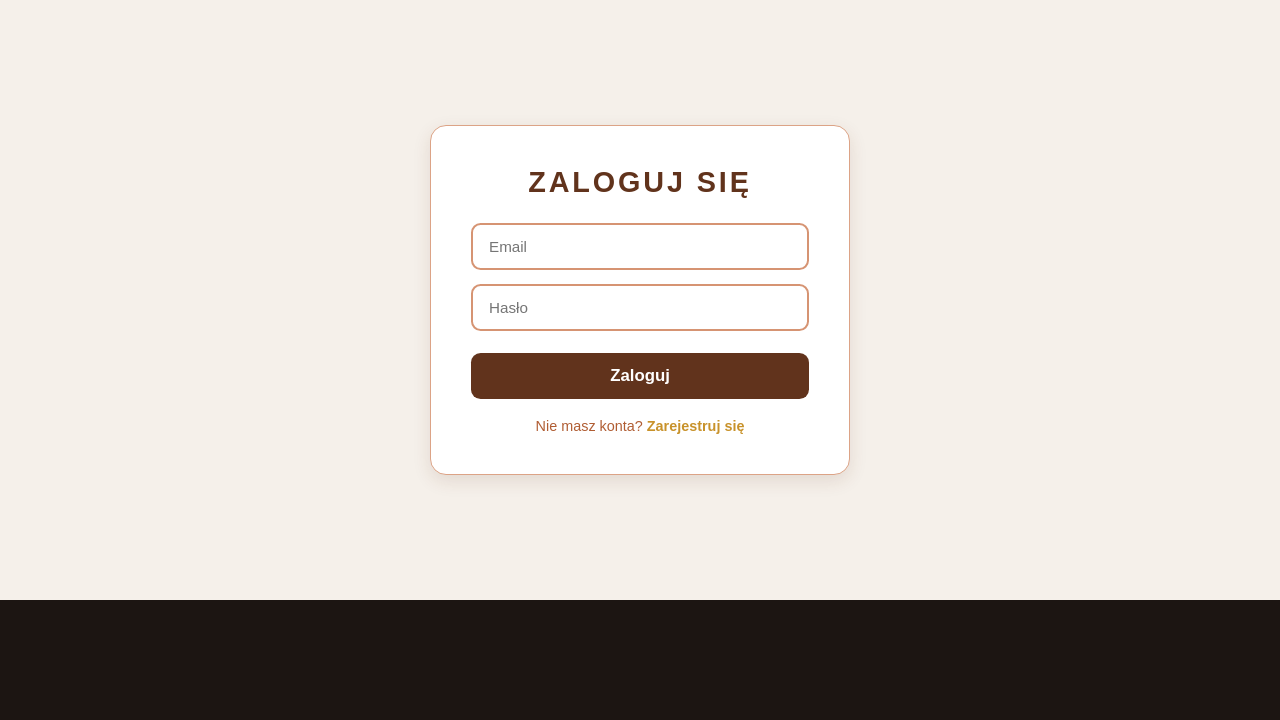
it: Login Component Tests › should show error when login fails
Step 1. Type "test@test.pl" into the field with placeholder "Email" → (640, 246), box [471,223,809,270]
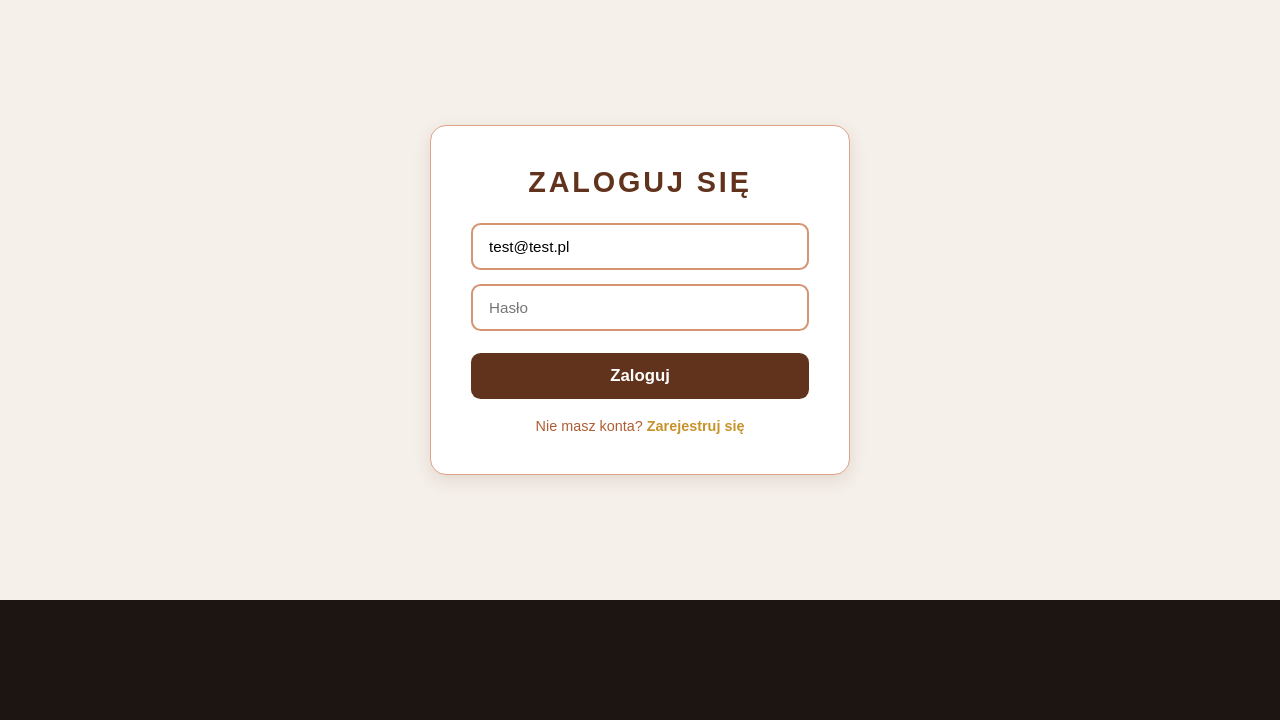
Step 2. Type "wrong" into the password field with placeholder "Hasło" → (640, 307), box [471,284,809,331]
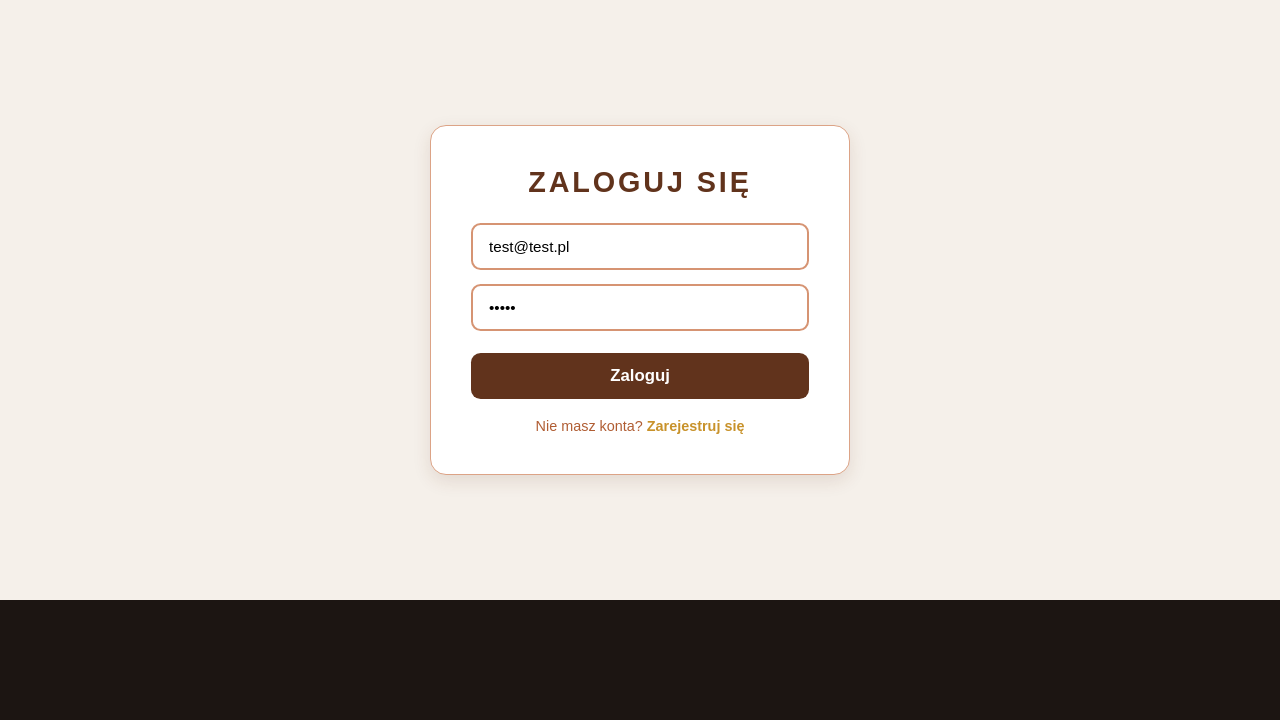
Step 3. Click the button "Zaloguj" → (640, 376), box [471,353,809,399]
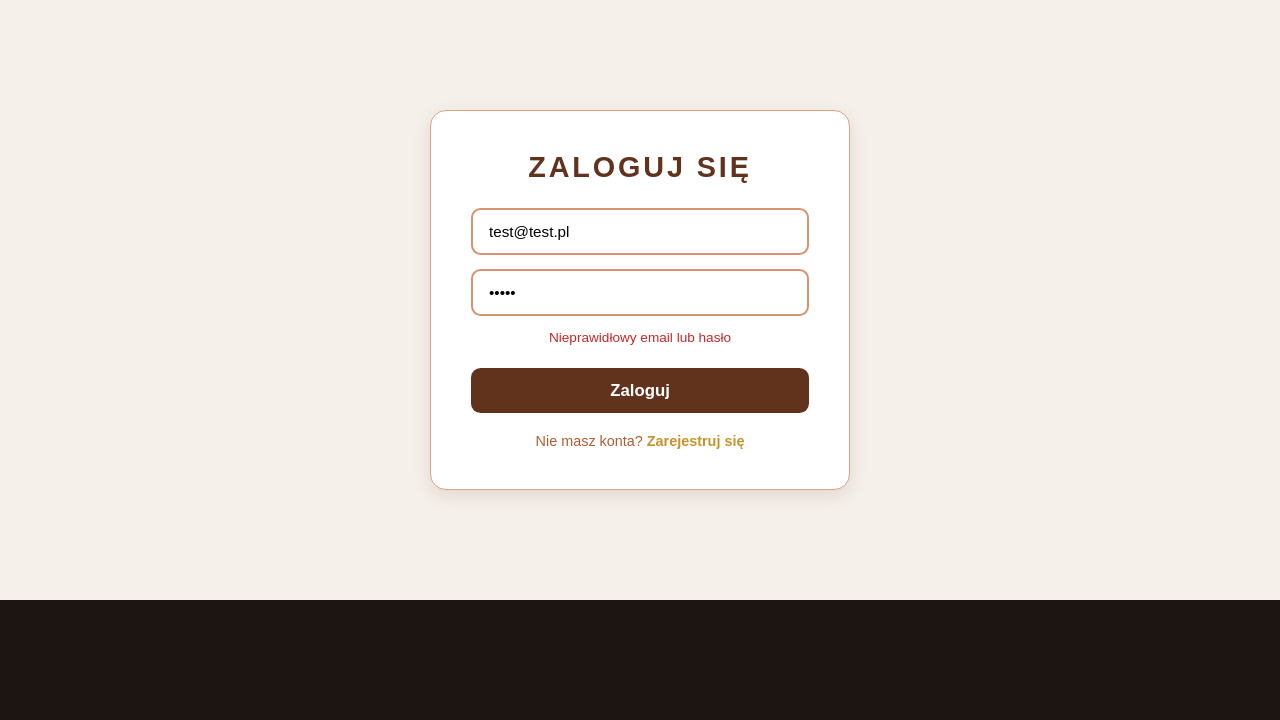
Expected: the text "Nieprawidłowy email lub hasło" is shown, [549,330,731,345]
